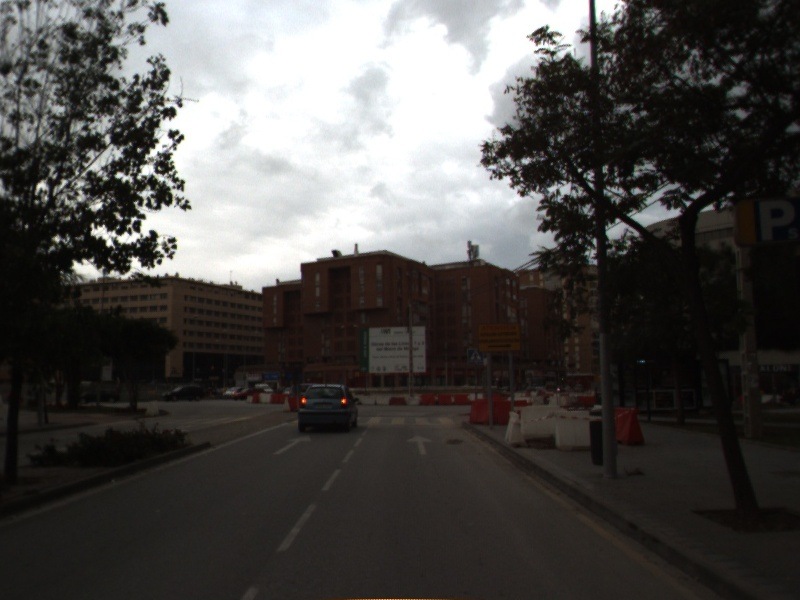STRAIGHT: (270, 432, 314, 457), (405, 432, 436, 457)
